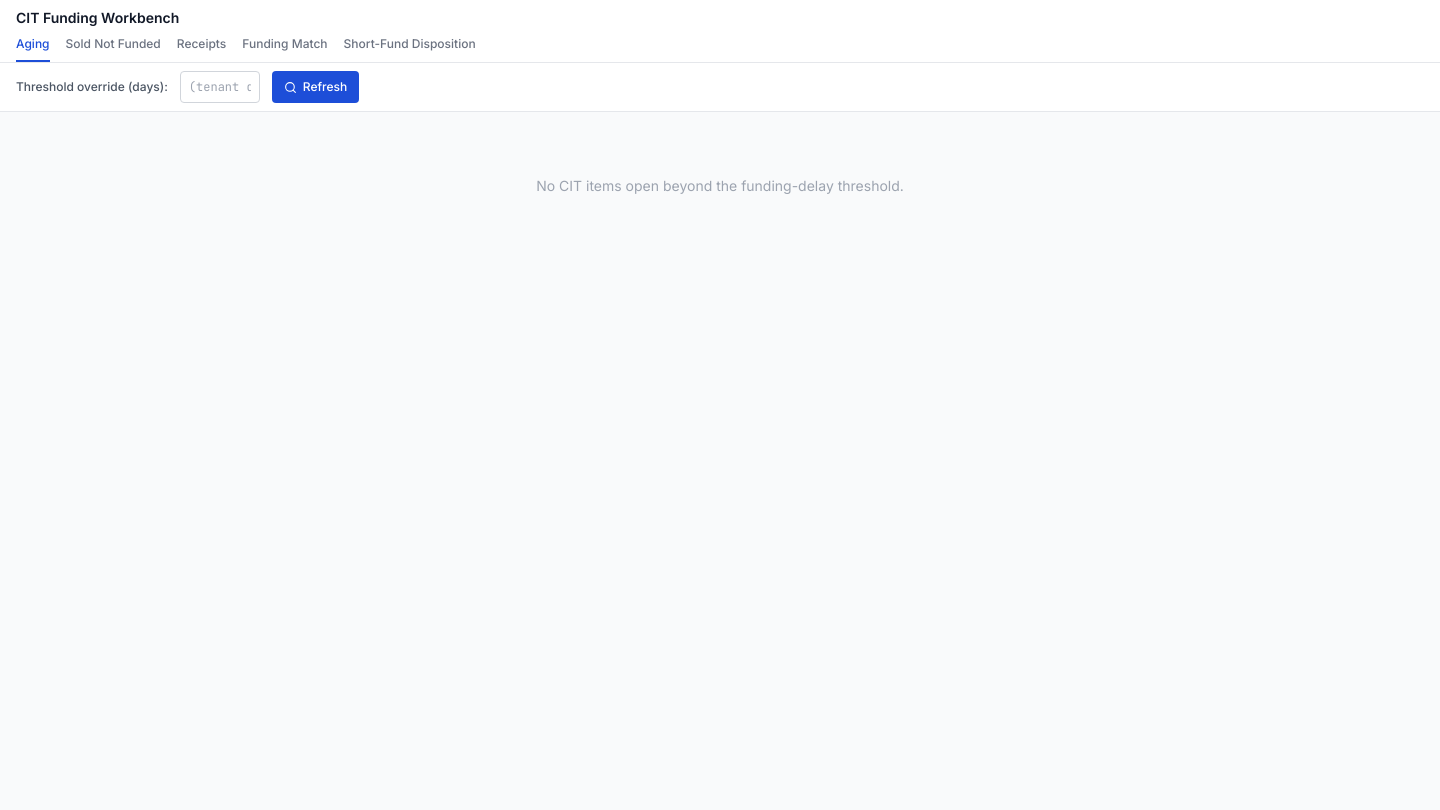
it: CitFundingWorkbench — Funding Match tab › records a funding receipt with a real idempotency key
The image size is (1440, 810).
Click the button with test id "cit-tab-match" at (285, 49), box [242, 36, 328, 62]
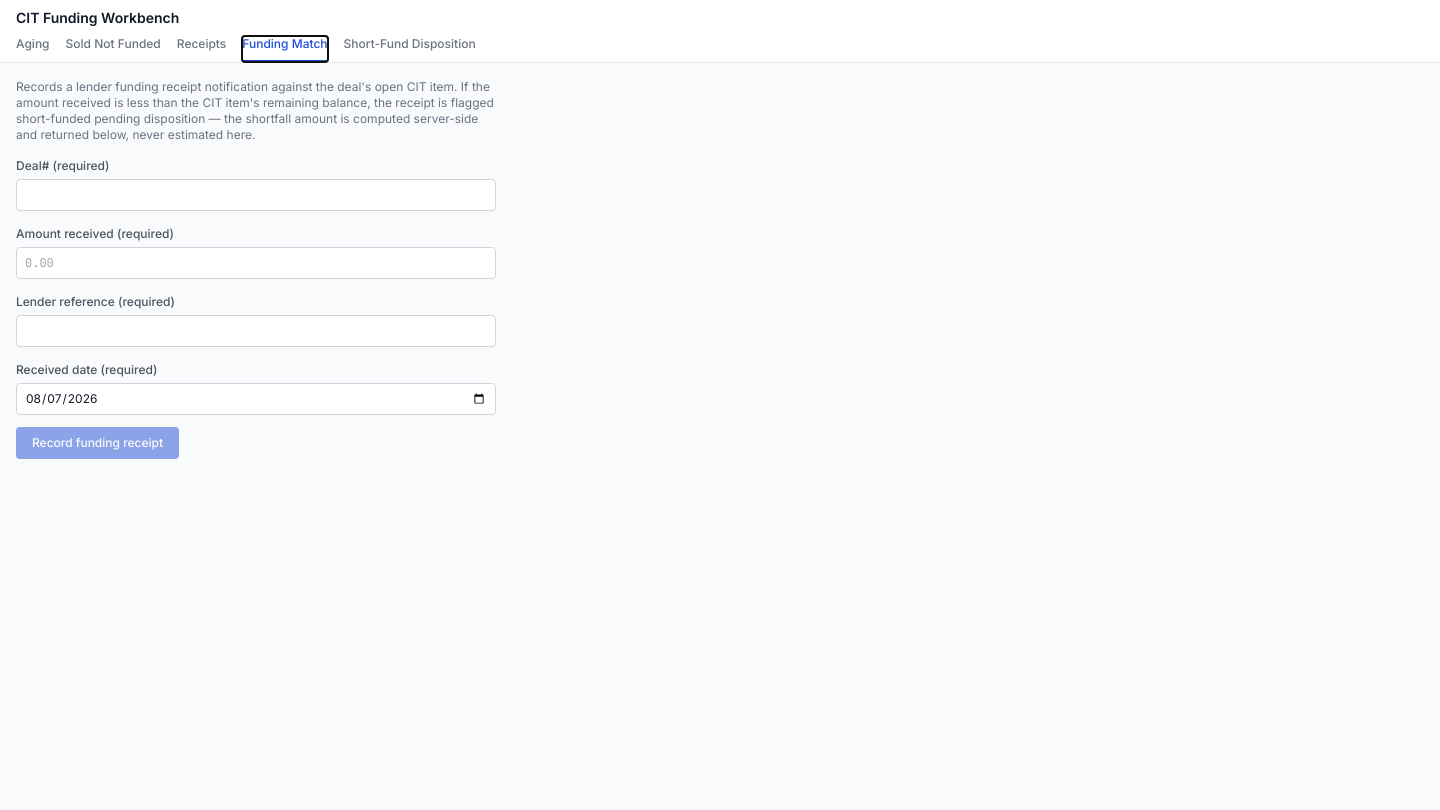
Type "D-2001" into the field with test id "funding-match-deal-number" at (256, 195), box [16, 179, 496, 211]
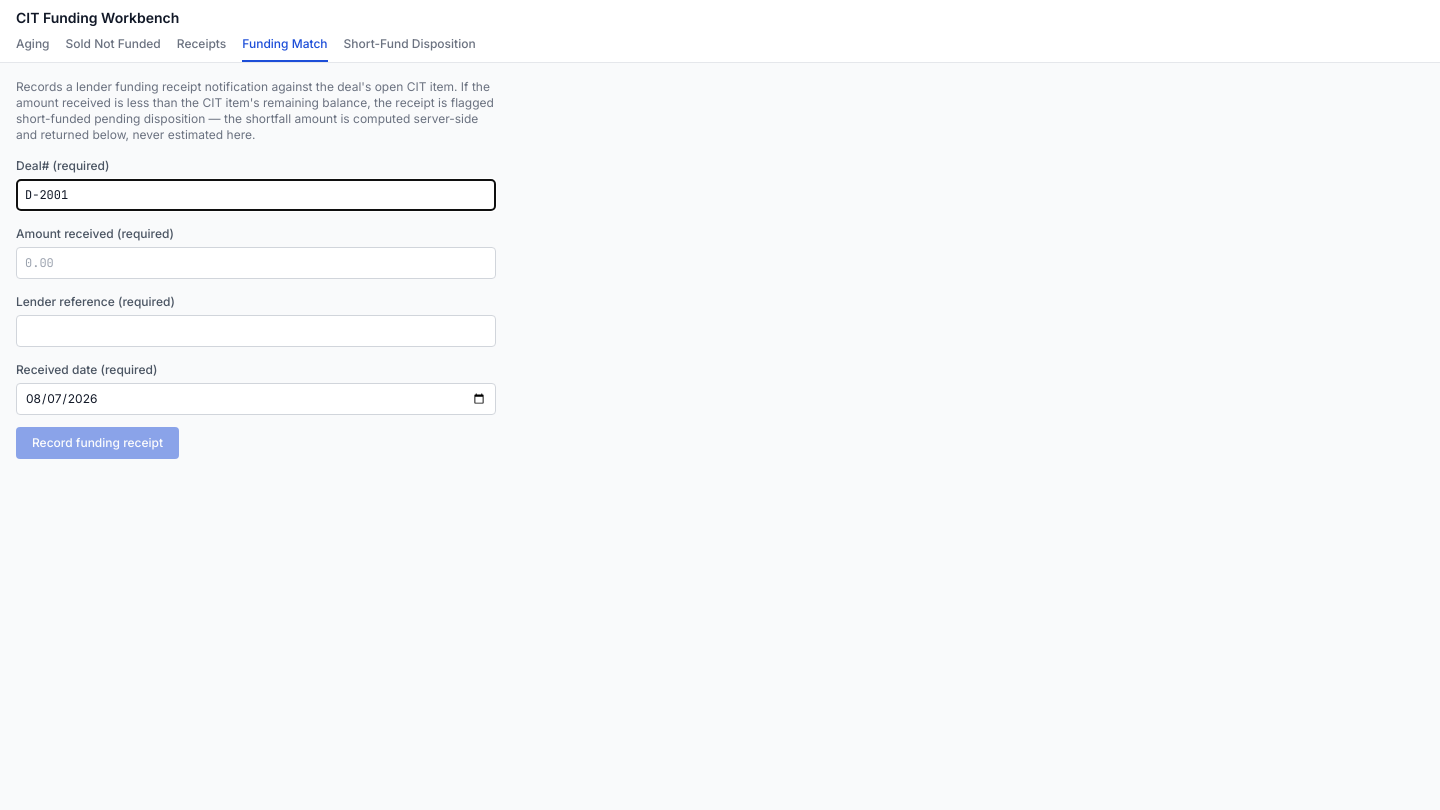
Type "18000.00" into the field with test id "funding-match-amount" at (256, 263), box [16, 247, 496, 279]
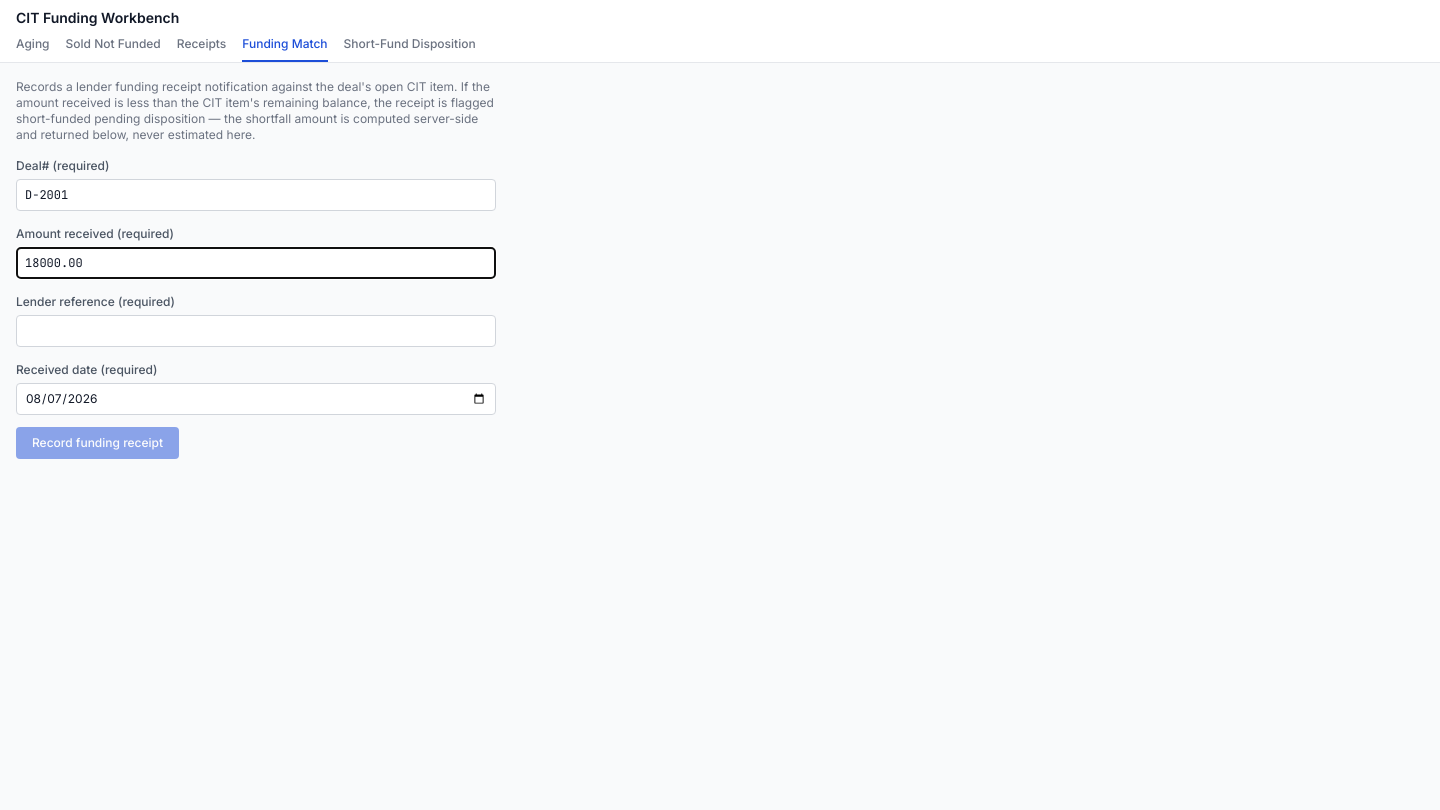
Type "LEN-1" into the field with test id "funding-match-lender-ref" at (256, 331), box [16, 315, 496, 347]
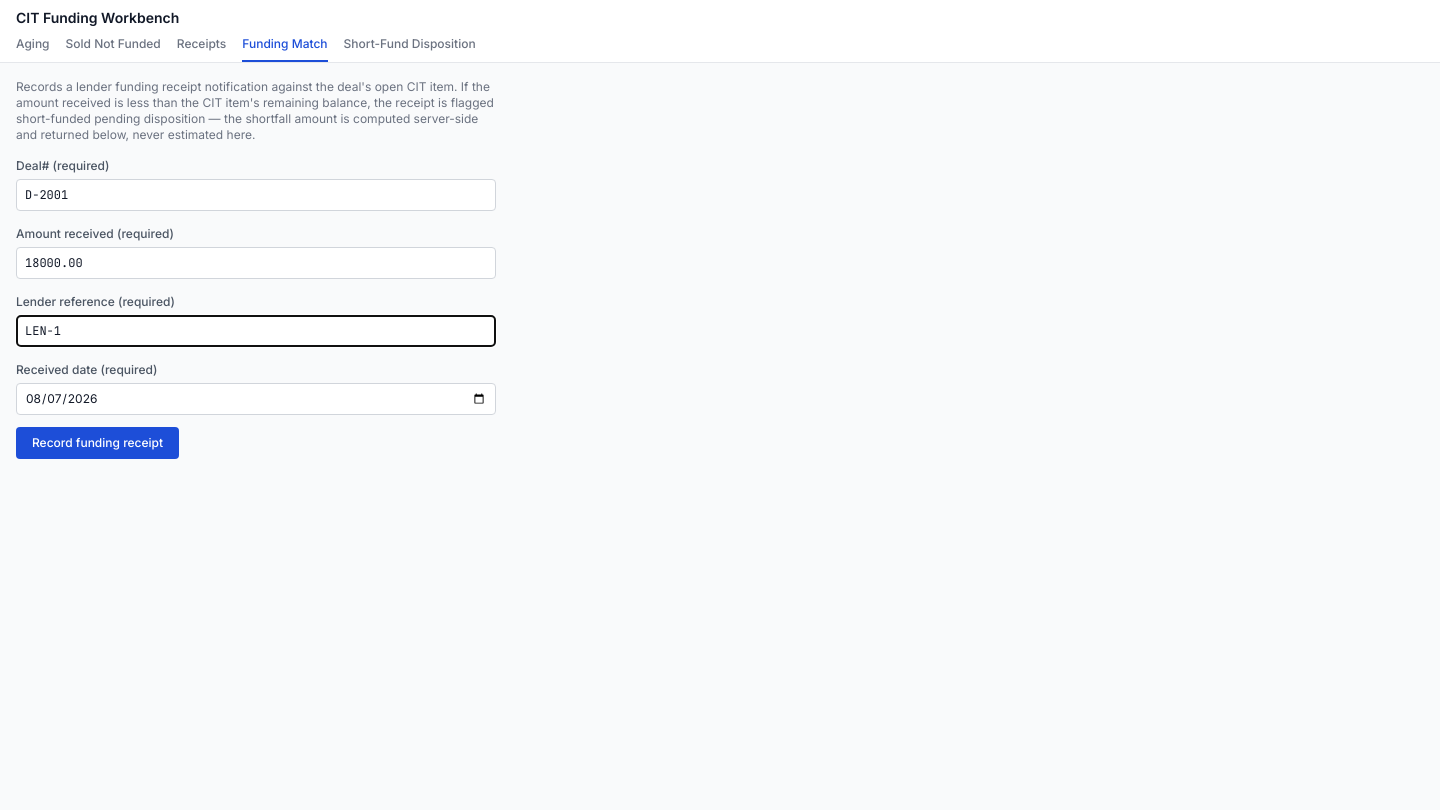
Click the button with test id "funding-match-submit-button" at (98, 443), box [16, 427, 179, 459]
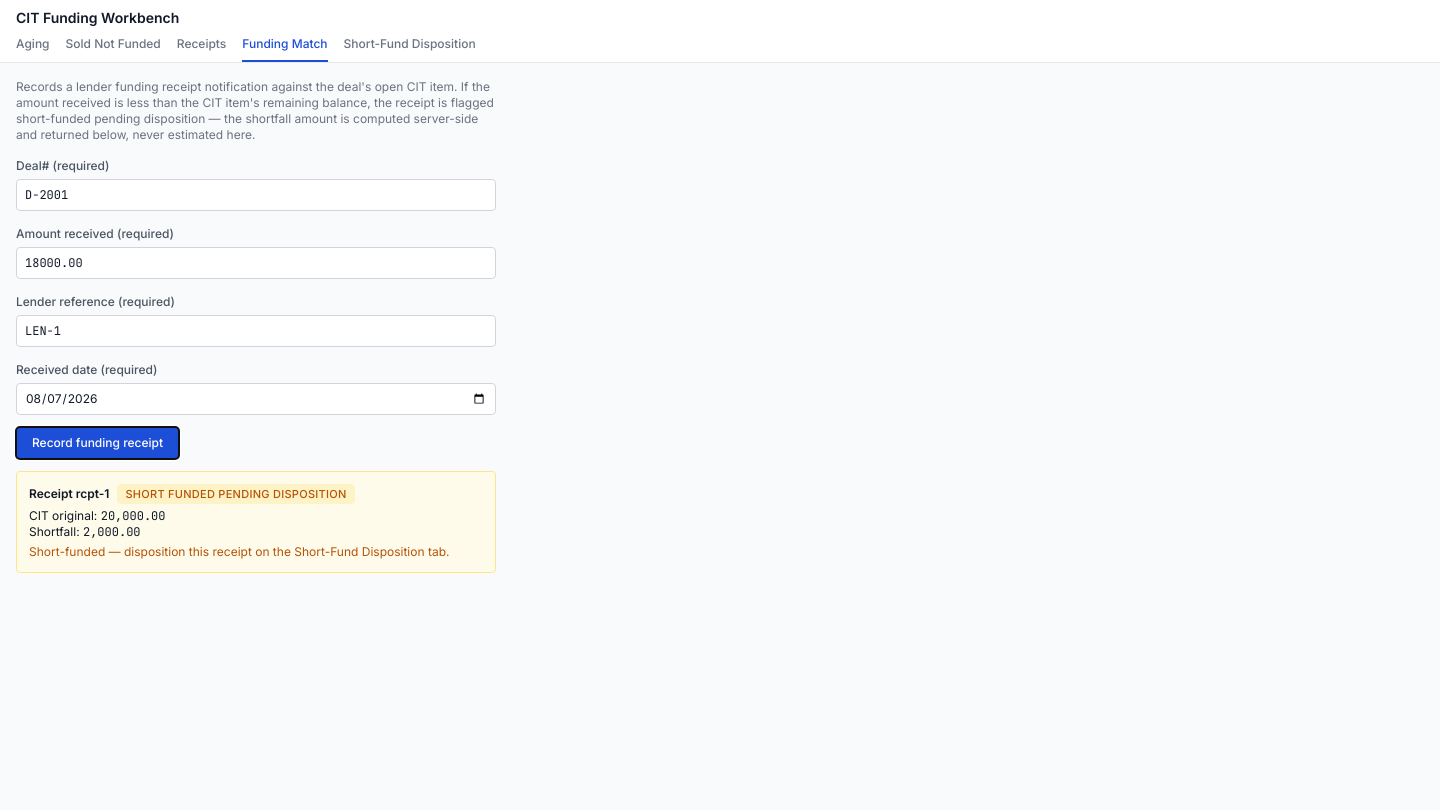
Now the element with test id "funding-match-result" is shown, box [16, 471, 496, 573]
